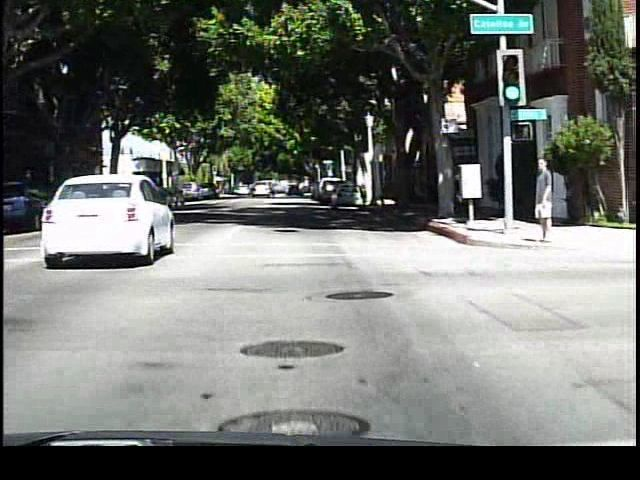person: (527, 151, 558, 248)
